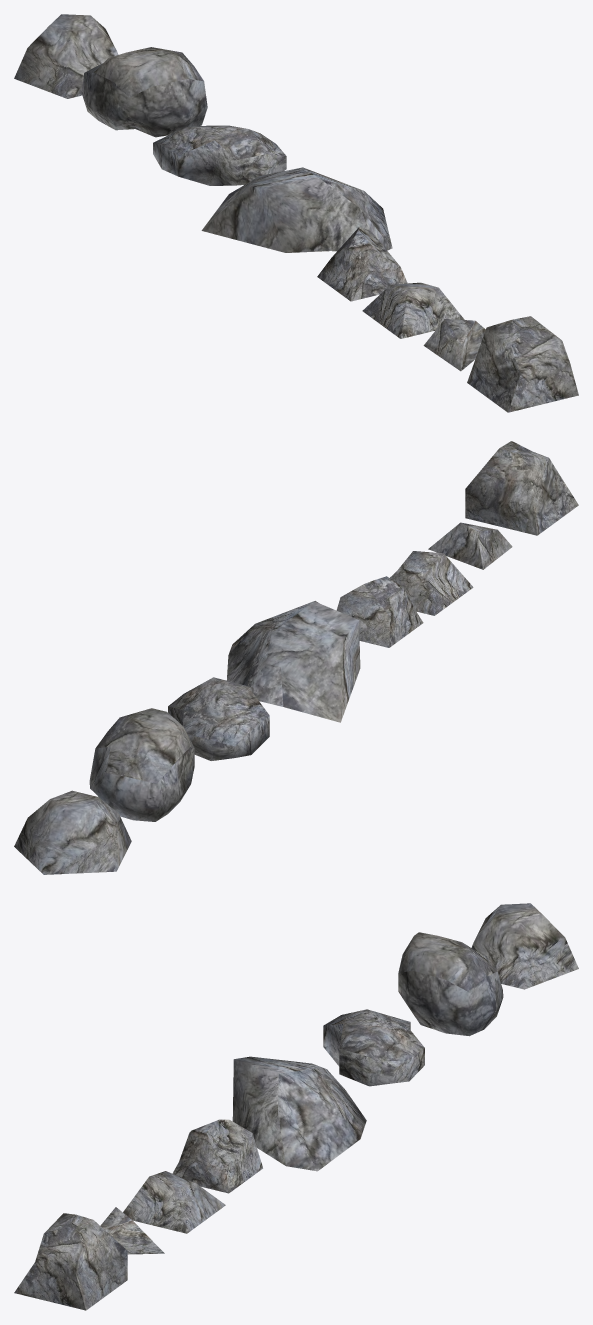
File: Rock low poly.dae
3 renders of one model, top to bottom at view 1: azimuth 30°, elevation 25°; view 2: azimuth 150°, elevation 25°; view 3: azimuth 330°, elevation 25°, orthographic.
Visible parts, largest first — view 1: Rock5, Rock7, Rock1, Rock6, Rock8, Rock4, Rock3, Rock2; view 2: Rock5, Rock7, Rock8, Rock1, Rock6, Rock4, Rock3, Rock2; view 3: Rock5, Rock7, Rock1, Rock8, Rock6, Rock4, Rock3, Rock2.
Boxes of the visible parts, x1,y1,x2,y2 form: Rock5: (201, 167, 392, 252); Rock7: (81, 47, 207, 137); Rock1: (467, 316, 578, 412); Rock6: (153, 125, 286, 185); Rock8: (14, 14, 118, 98); Rock4: (317, 226, 407, 301); Rock3: (362, 282, 464, 338); Rock2: (423, 319, 485, 371); Rock5: (226, 601, 360, 722); Rock7: (89, 708, 194, 821); Rock8: (14, 790, 131, 874); Rock1: (465, 441, 578, 535); Rock6: (168, 677, 269, 760); Rock4: (336, 576, 423, 647); Rock3: (390, 551, 473, 615); Rock2: (428, 522, 512, 569); Rock5: (232, 1056, 366, 1171); Rock7: (398, 932, 503, 1036); Rock1: (14, 1213, 127, 1310); Rock8: (471, 903, 578, 989); Rock6: (323, 1009, 424, 1086); Rock4: (172, 1119, 262, 1193); Rock3: (123, 1171, 225, 1233); Rock2: (100, 1207, 164, 1254).
Bounding box in the file's own units: 11.24 × 67.09 × 5.61.
Materials: 1 (1 with a texture image).
